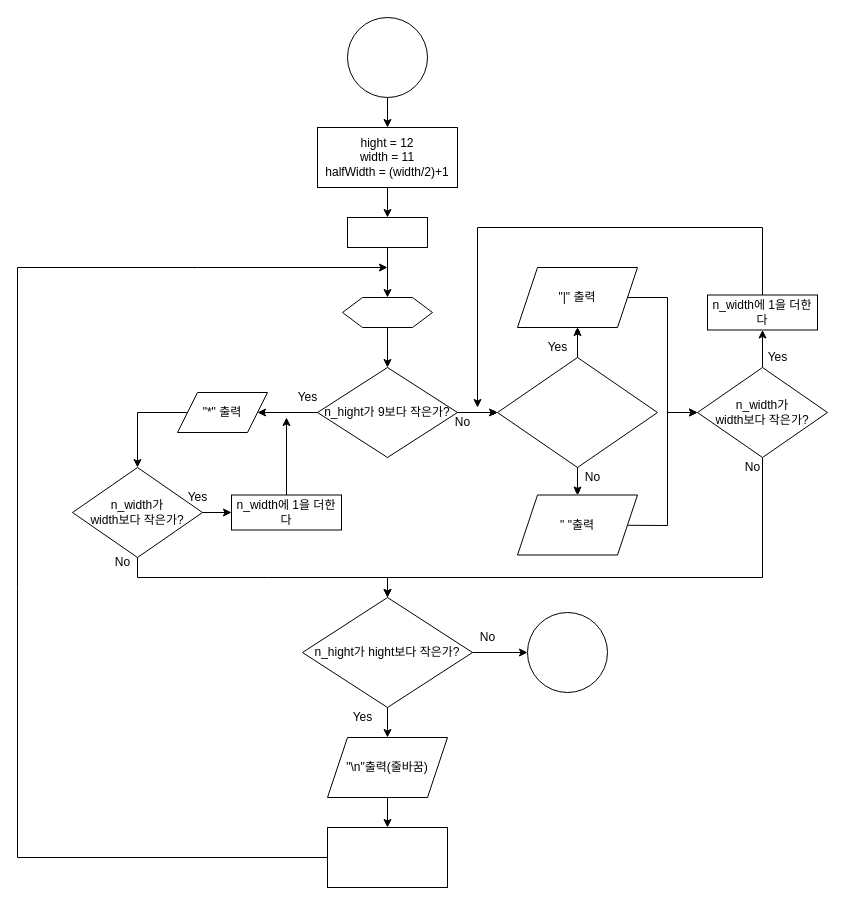
This 845x905 diagram has some shape labels left out. Here are the shapes that lost their labels. From the top down, the box of each, then its label:
(346, 16, 428, 98): 시작
(346, 216, 428, 248): n_hight = 1
(342, 296, 432, 328): n_width = 1
(496, 356, 658, 468): width가 halfWidth-1 또는 halfWidth+1과 같은가?
(526, 612, 608, 692): 종료
(326, 826, 448, 888): n_hight에 1을 더한다
